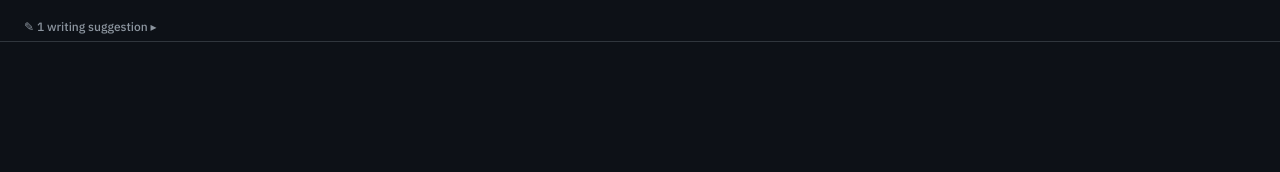
Scenario: WritingStrip › counts the suggestions and expands to list them
Expected: the text "Redundant phrase" is not shown
Click the button "✎ 1 writing suggestion ▸". click: x=90, y=26
box: [12,14,168,39]
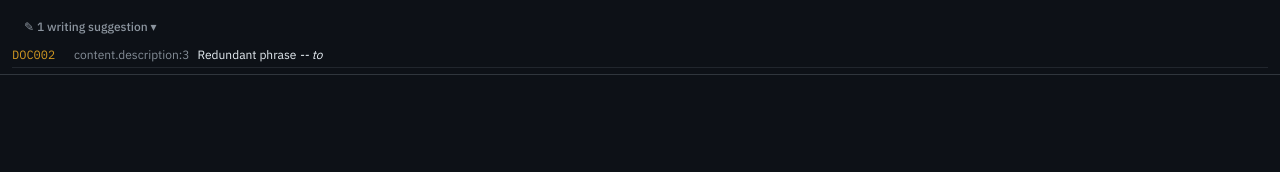
Result: the text "Redundant phrase" is shown at [198,47,296,62]
